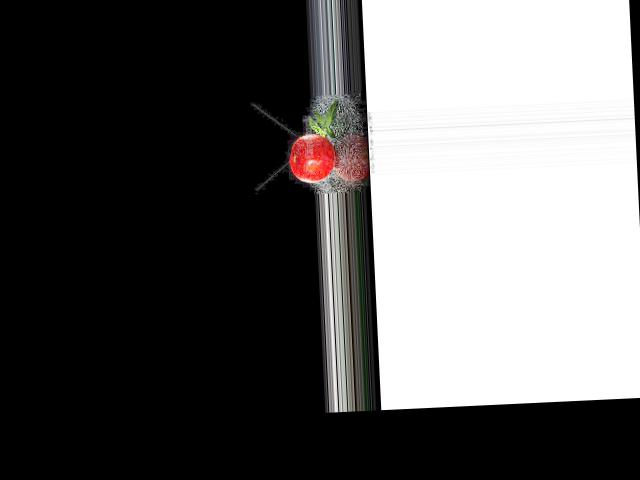tomato: (288, 132, 336, 183)
